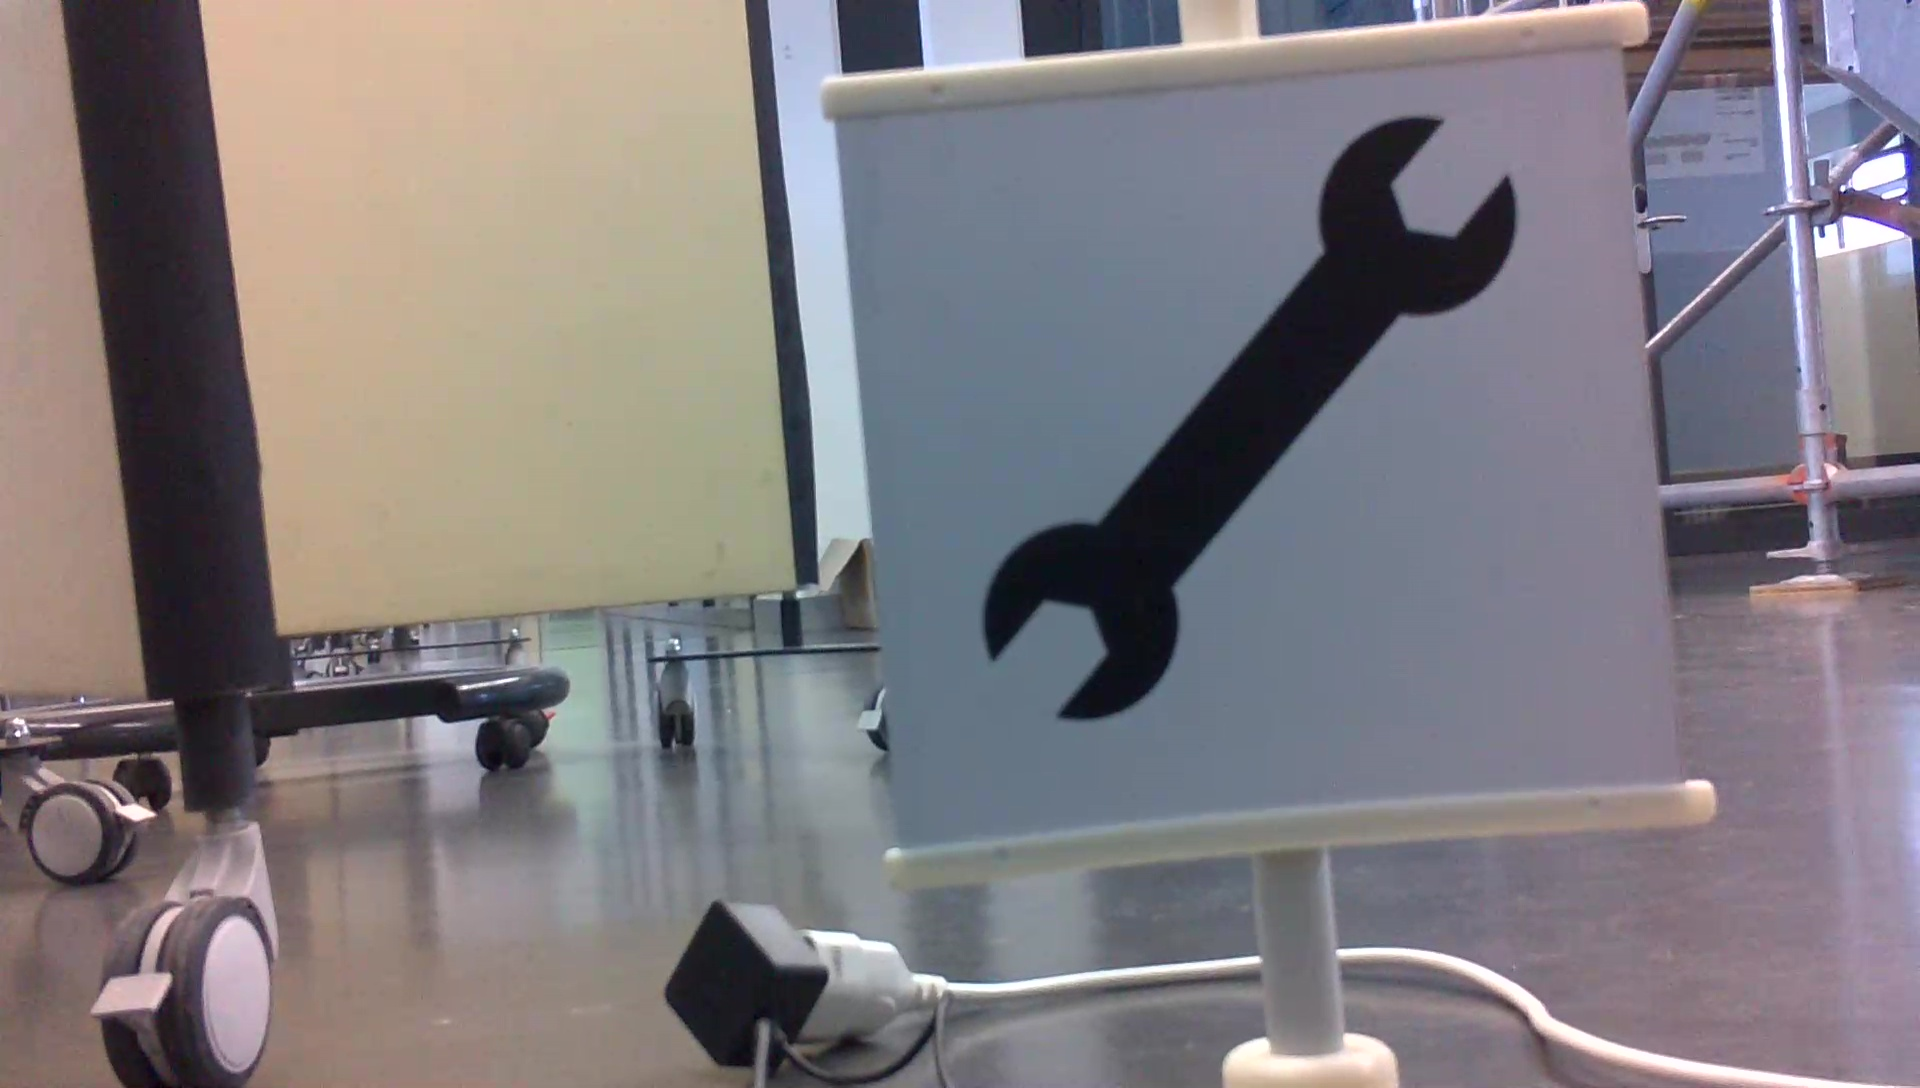wrench: (975, 106, 1524, 728)
